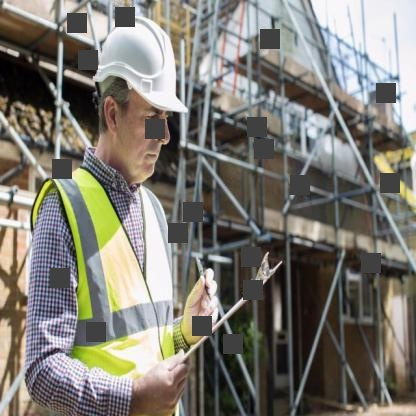vest: (24, 166, 179, 380)
white: (87, 7, 194, 122)
